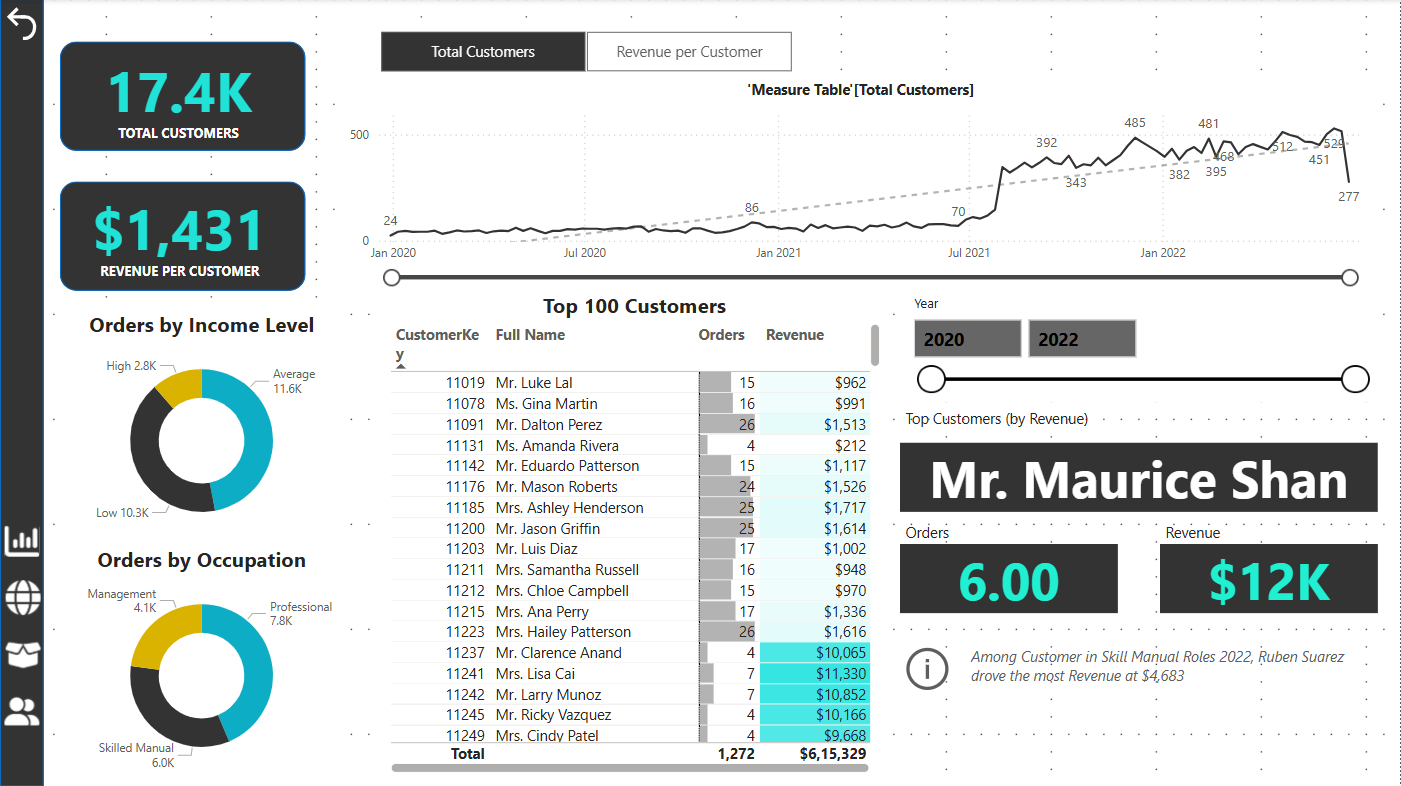

The page's visual inventory and layout, read from the dashboard file:
{"tool":"powerbi","page":{"name":"Customer Detail","canvas":[1280,720],"ordinal":3},"visuals":[{"type":"shape","box":[0,0,40.4,720.2],"z":0},{"type":"shape","box":[55,39.1,225,100.3],"z":1000},{"type":"shape","box":[55,166.3,225,100.3],"z":2000},{"type":"card","fields":{"Values":["Measure Table.Total Customers"]},"box":[40.4,28.1,247,123.5],"z":3000},{"type":"card","fields":{"Values":["Measure Table.Average Revenue per Customer"]},"box":[14.7,160.2,299.6,112.5],"z":4000},{"type":"lineChart","fields":{"Y":["Measure Table.Total Customers"],"Category":["Calendar Lookup.Date Hierarchy.Start of Year","Calendar Lookup.Date Hierarchy.Start of Week","Calendar Lookup.Date Hierarchy.Date","Calendar Lookup.Date Hierarchy.Start of Month"]},"box":[314.3,73.4,945.2,192],"z":5000},{"type":"donutChart","title":" Orders by Income Level","fields":{"Category":["Customer Lookup.Income Level"],"Y":["Measure Table.Total Orders"]},"box":[55,284.9,259.2,214],"z":6000},{"type":"donutChart","title":" Orders by Occupation","fields":{"Y":["Measure Table.Total Orders"],"Category":["Customer Lookup.Occupation"]},"box":[55,498.9,259.2,214],"z":7000},{"type":"tableEx","title":"Top 100 Customers","fields":{"Values":["Customer Lookup.CustomerKey","Customer Lookup.FullName.1","Measure Table.Total Orders","Measure Table.Total Revenue"]},"box":[351,267.8,458.6,445.1],"z":8000},{"type":"card","fields":{"Values":["Measure Table.Full Name (Customer Details)"]},"box":[822.4,405.4,437.2,63.5],"z":9000},{"type":"card","fields":{"Values":["Measure Table.Total Order (Customer Detail)"]},"box":[822.4,497.8,199.1,63.5],"z":10000},{"type":"card","fields":{"Values":["Measure Table.Total Revenue"]},"box":[1060.4,497.8,199.1,63.5],"z":11000},{"type":"textbox","box":[822.4,369.3,199.1,44.7],"z":12000},{"type":"textbox","box":[822.4,473.2,69.3,36.1],"z":13000},{"type":"textbox","box":[1060.4,473.2,69.3,39],"z":14000},{"type":"slicer","fields":{"Values":["Calendar Lookup.Year"]},"box":[822.4,265.5,437.2,103.9],"z":15000},{"type":"actionButton","box":[823,587,436.6,50.1],"z":16000},{"type":"actionButton","box":[0,0,40.4,45.2],"z":17000},{"type":"actionButton","box":[1.2,525.8,40.4,42.8],"z":18000},{"type":"actionButton","box":[1.2,578.4,40.4,42.8],"z":19000},{"type":"actionButton","box":[0,474.5,40.4,42.8],"z":20000},{"type":"actionButton","box":[0,629.8,40.4,42.8],"z":21000},{"type":"slicer","fields":{"Values":["Customer Metric Section.Customer Metric Section"]},"box":[322.8,23.2,425.5,50.1],"z":22000}]}

Visuals, with their boxes on the page's 1280x720 design canvas (x1, y1, x2, y2). These are canvas units, not pixel positions in the 1401x786 screenshot, which may show the page scaled, cropped or inside an application window:
shape: (0, 0, 40, 720)
shape: (55, 39, 280, 139)
shape: (55, 166, 280, 267)
card - Measure Table.Total Customers: (40, 28, 287, 152)
card - Measure Table.Average Revenue per Customer: (15, 160, 314, 273)
lineChart - Measure Table.Total Customers x Calendar Lookup.Date Hierarchy.Start of Year: (314, 73, 1260, 265)
" Orders by Income Level" donutChart: (55, 285, 314, 499)
" Orders by Occupation" donutChart: (55, 499, 314, 713)
"Top 100 Customers" tableEx: (351, 268, 810, 713)
card - Measure Table.Full Name (Customer Details): (822, 405, 1260, 469)
card - Measure Table.Total Order (Customer Detail): (822, 498, 1022, 561)
card - Measure Table.Total Revenue: (1060, 498, 1260, 561)
textbox: (822, 369, 1022, 414)
textbox: (822, 473, 892, 509)
textbox: (1060, 473, 1130, 512)
slicer - Calendar Lookup.Year: (822, 266, 1260, 369)
actionButton: (823, 587, 1260, 637)
actionButton: (0, 0, 40, 45)
actionButton: (1, 526, 42, 569)
actionButton: (1, 578, 42, 621)
actionButton: (0, 474, 40, 517)
actionButton: (0, 630, 40, 673)
slicer - Customer Metric Section.Customer Metric Section: (323, 23, 748, 73)
